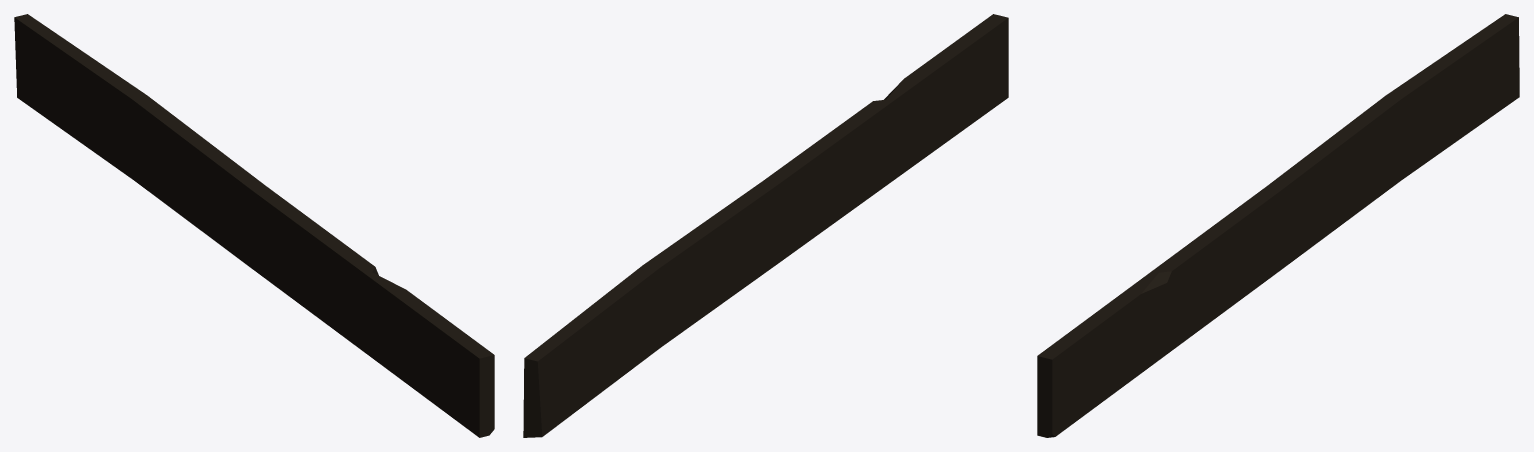
File: Wood_Plank_Single.fbx
3 renders of one model, left to right at view 1: azimuth 30°, elevation 25°; view 2: azimuth 150°, elevation 25°; view 3: azimuth 330°, elevation 25°, orthographic.
Visible parts, largest first — view 1: Wood_Plank_Single; view 2: Wood_Plank_Single; view 3: Wood_Plank_Single.
Boxes of the visible parts, x1=… form: Wood_Plank_Single: x1=14, y1=14, x2=494, y2=437; Wood_Plank_Single: x1=523, y1=14, x2=1008, y2=437; Wood_Plank_Single: x1=1037, y1=14, x2=1519, y2=437.
Size of the model in its own units: 0.0382 by 0.2 by 2.
